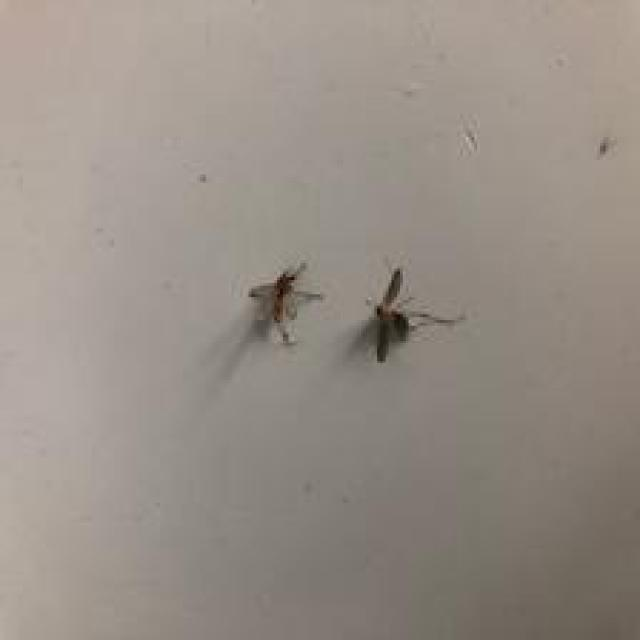Culex: (247, 260, 324, 346)
